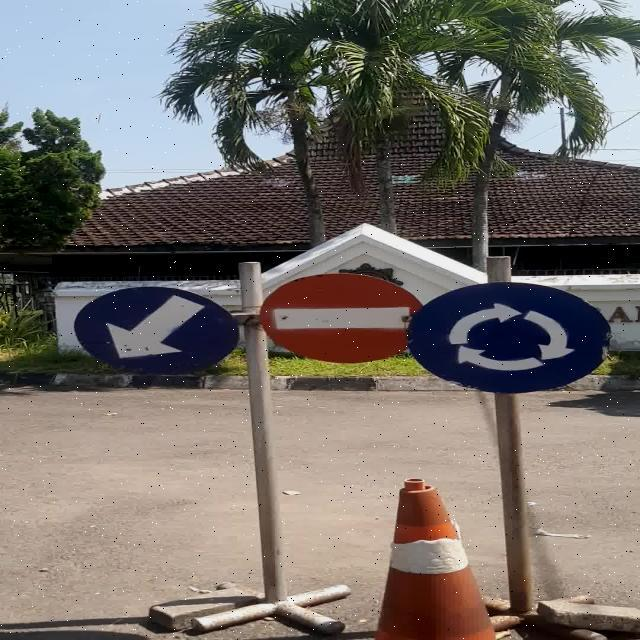Ikuti Bundaran: (406, 282, 610, 394)
Lajur Kiri: (74, 286, 239, 374)
